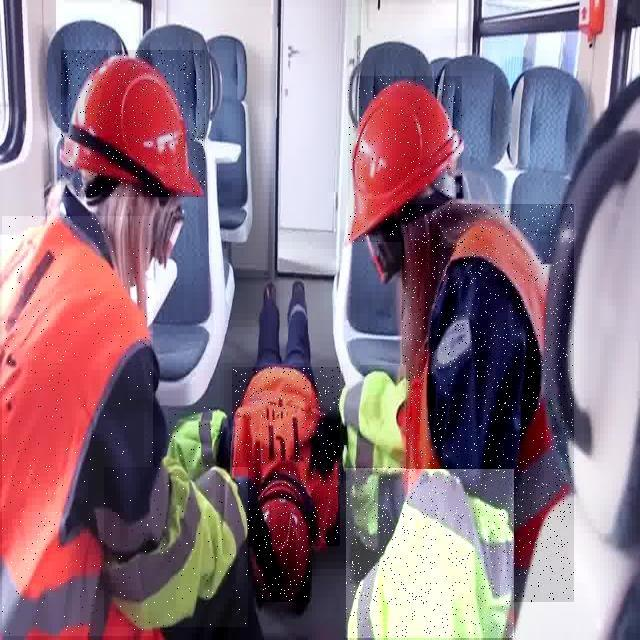Gloves: (303, 402, 358, 486)
Helmet: (61, 50, 205, 197), (349, 76, 463, 242), (256, 476, 310, 602)
Person: (344, 69, 590, 640), (0, 44, 217, 640), (223, 268, 349, 622)
Safety Vest: (2, 217, 223, 637), (360, 205, 574, 603), (348, 474, 516, 640), (232, 367, 340, 546), (115, 474, 247, 620), (336, 369, 415, 452), (163, 407, 226, 476)
